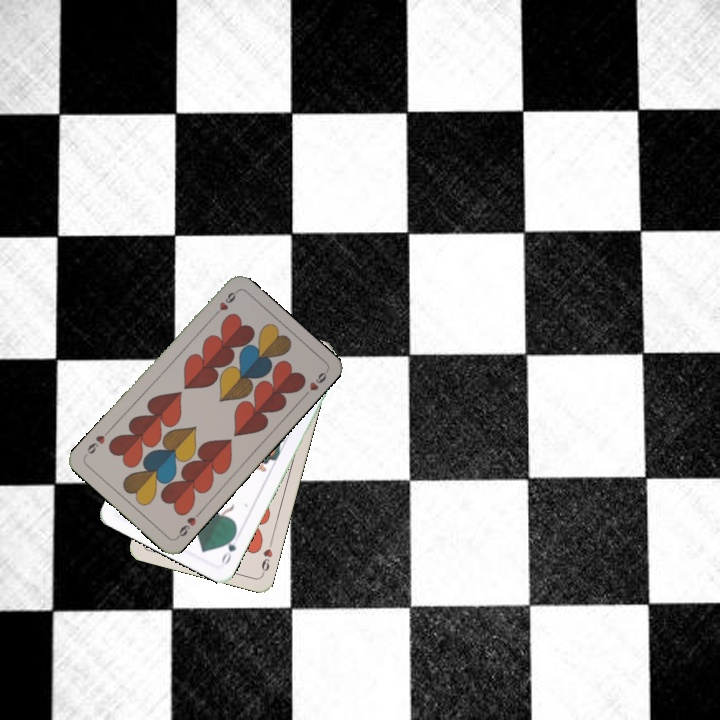GO: (217, 528, 239, 567)
H9: (208, 287, 240, 320), (172, 508, 203, 541), (257, 537, 275, 577)
